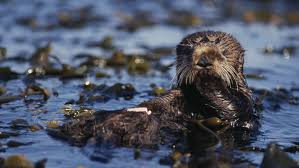otter: (149, 16, 278, 120)
